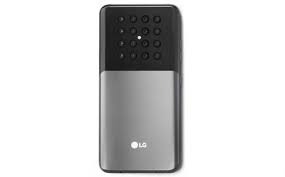lg: (95, 1, 183, 175)
